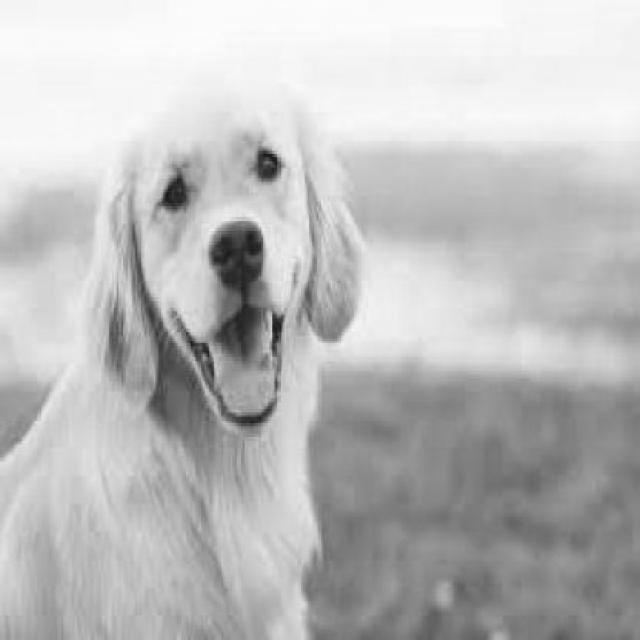Dog: (0, 76, 364, 639)
